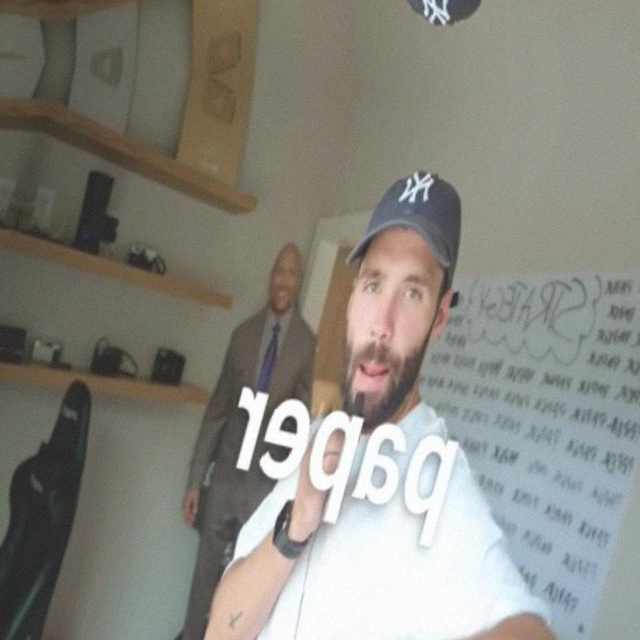Paper: (182, 600, 419, 640)
